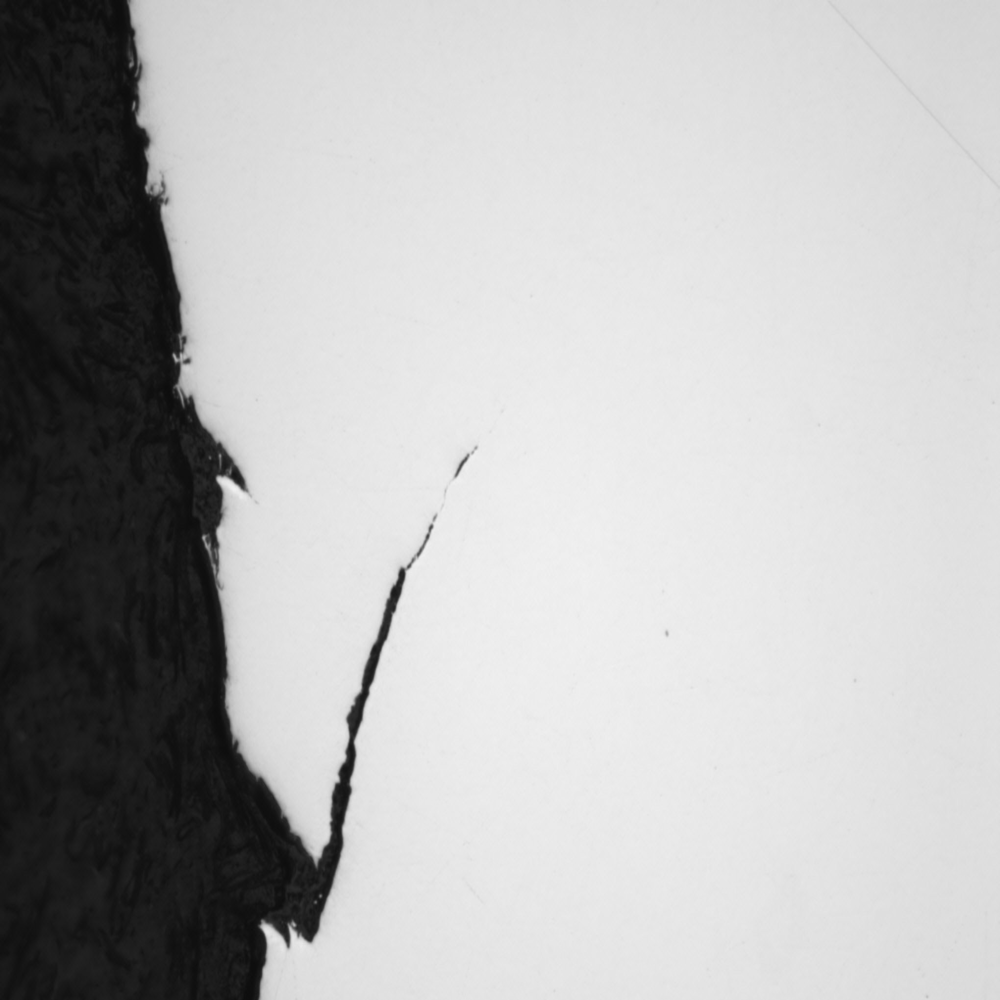crack: (235, 394, 510, 962)
